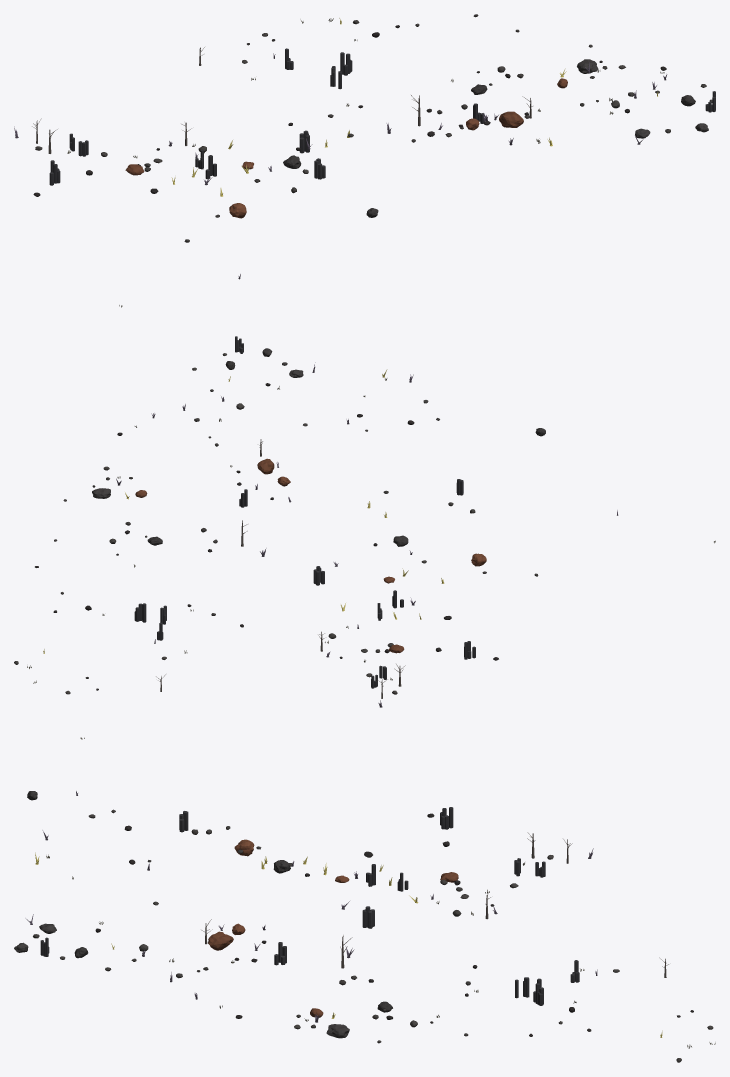
The model's file is ash_land_scatter_c17_27.glb.
3 renders of one model, top to bottom at view 1: azimuth 30°, elevation 25°; view 2: azimuth 150°, elevation 25°; view 3: azimuth 270°, elevation 25°, orthographic. The views are drawn at different scales.
Parts seen in each view (by area): view 1: ash_land_scatter_c17_27; view 2: ash_land_scatter_c17_27; view 3: ash_land_scatter_c17_27.
Part boxes in pixels (<box>): ash_land_scatter_c17_27: <box>14,14,715,307</box>; ash_land_scatter_c17_27: <box>14,336,715,707</box>; ash_land_scatter_c17_27: <box>14,737,715,1062</box>.
Size of the model in its own units: 165 by 39.56 by 157.
